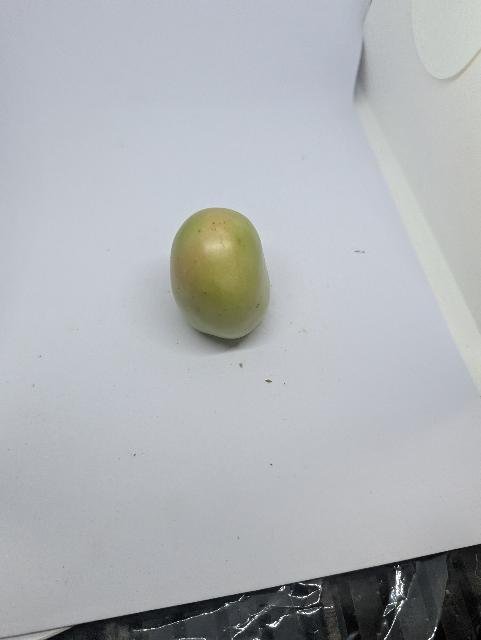breaker: (167, 205, 275, 341)
